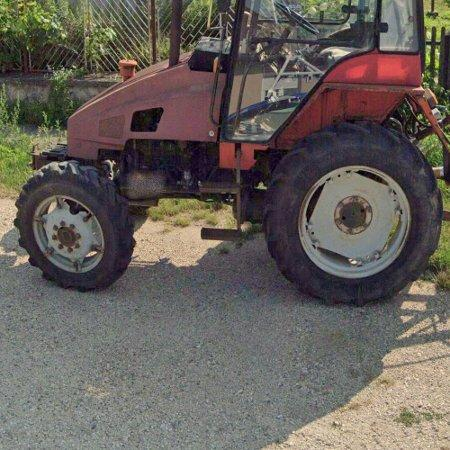tractors: (15, 0, 450, 303)
